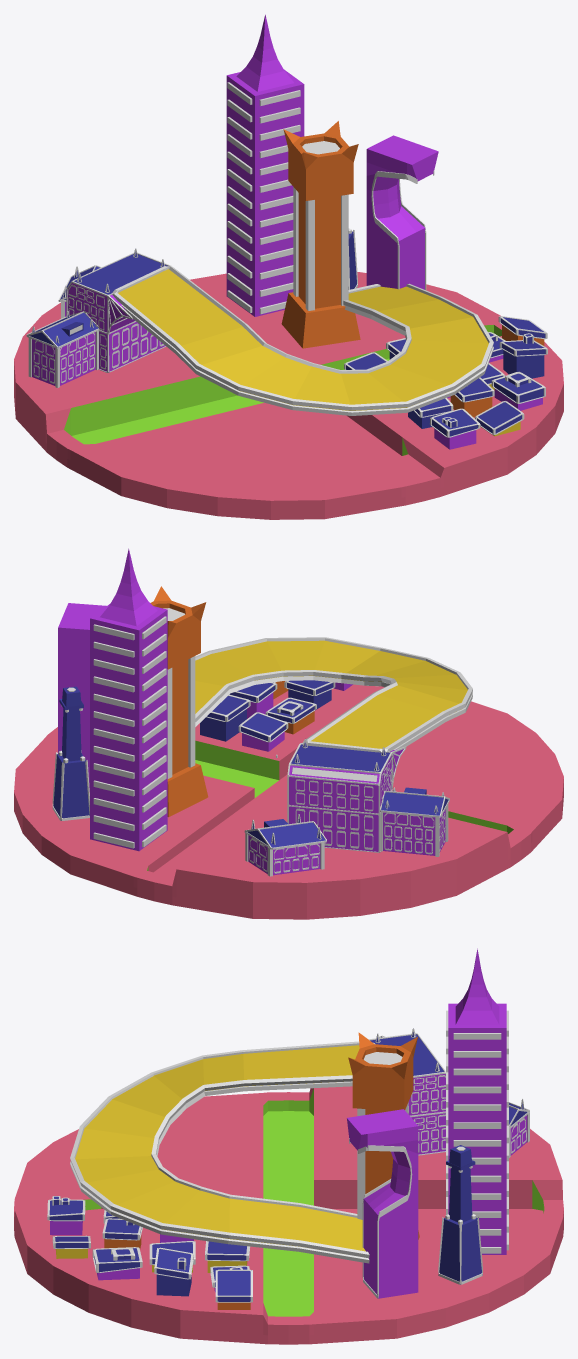
Rendered from city2.fbx.
The picture shows the model from 3 angles, top to bottom: view 1: azimuth 30°, elevation 25°; view 2: azimuth 150°, elevation 25°; view 3: azimuth 270°, elevation 25°; orthographic projection. The views are drawn at different scales.
Parts seen in each view (by area): view 1: Ground, Stairway, Skyscraper 2, Rail Lights, Skyscraper 3, Windows, Mansion, Lid, Skyscraper 1, Base, Pillars, Mansion.001 (+8 smaller); view 2: Ground, Stairway, Skyscraper 2, Mansion, Windows, Rail Lights, Skyscraper 3, Lid, Skyscraper 4, Mansion.001, Skyscraper 1, Antenna (+13 smaller); view 3: Ground, Stairway, Rail Lights, Skyscraper 3, Skyscraper 2, Windows, Lid, Mansion, Skyscraper 4, Antenna, Pillar, Lights.001 (+11 smaller).
Part boxes in pixels (x1,y1,x2,y2): Ground: (14,272,563,519); Stairway: (118,269,488,410); Skyscraper 2: (226,69,304,316); Rail Lights: (112,266,493,415); Skyscraper 3: (366,135,438,289); Windows: (227,82,300,314); Mansion: (67,254,167,372); Lid: (283,121,358,200); Skyscraper 1: (298,193,340,308); Base: (281,292,360,348); Pillars: (293,187,348,310); Mansion.001: (32,332,95,385); Ground: (14,684,563,919); Stairway: (195,640,467,748); Skyscraper 2: (90,603,167,851); Mansion: (289,744,403,851); Windows: (93,616,166,848); Rail Lights: (195,637,472,752); Skyscraper 3: (58,603,106,791); Lid: (150,586,206,669); Skyscraper 4: (53,686,89,820); Mansion.001: (383,809,445,855); Skyscraper 1: (172,659,188,774); Antenna: (100,548,157,626); Ground: (14,1086,563,1344); Stairway: (75,1045,365,1251); Rail Lights: (70,1041,375,1263); Skyscraper 3: (347,1109,418,1298); Skyscraper 2: (448,1003,506,1254); Windows: (446,1010,508,1253); Lid: (348,1032,417,1110); Mansion: (370,1034,445,1154); Skyscraper 4: (438,1145,482,1284); Antenna: (455,948,499,1024); Pillar: (449,1167,472,1222); Lights.001: (349,1138,412,1298).
Bounding box in the file's own units: 1373 × 864 × 1371.
